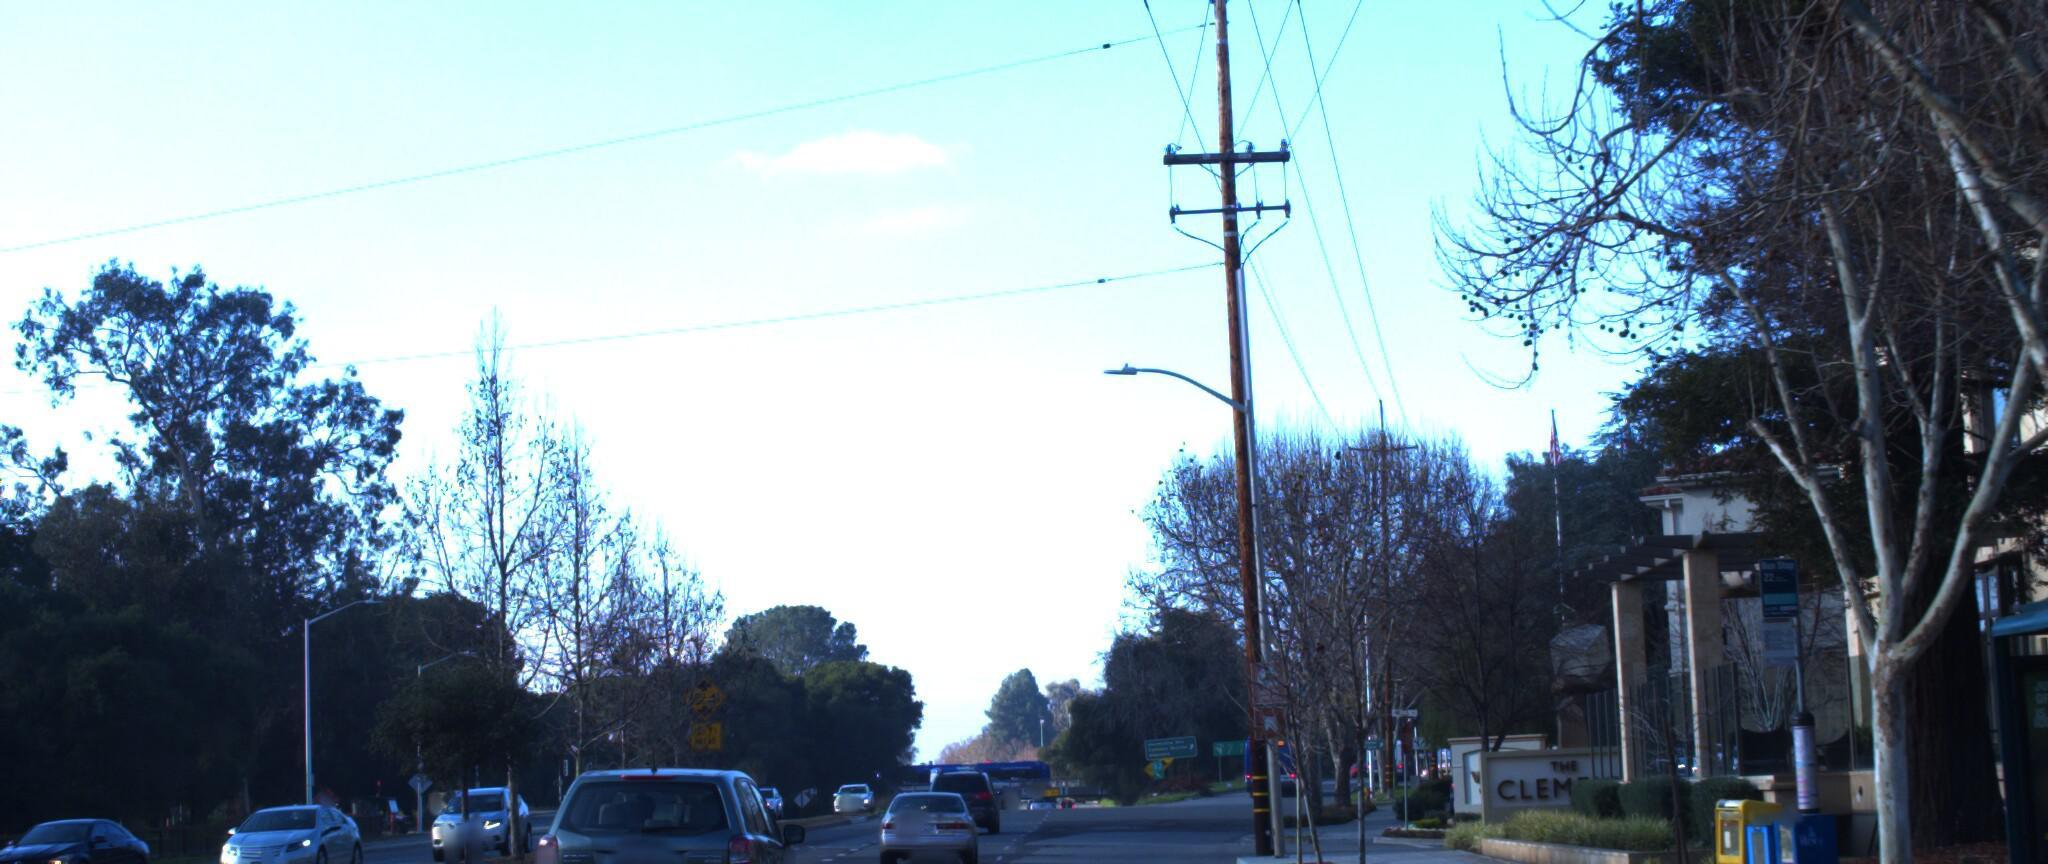car: (519, 743, 816, 864), (216, 784, 374, 864), (871, 773, 985, 861), (0, 807, 167, 864), (410, 773, 522, 850)
